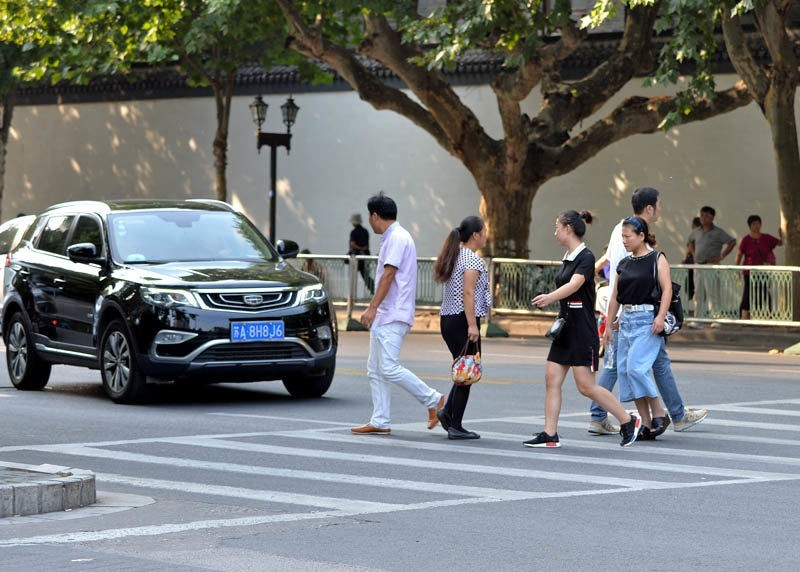car: (0, 198, 332, 399)
person: (593, 187, 698, 434), (350, 194, 444, 437), (542, 210, 635, 451), (611, 221, 668, 442), (439, 218, 490, 439), (690, 206, 734, 327), (740, 215, 782, 318), (346, 210, 378, 301)
